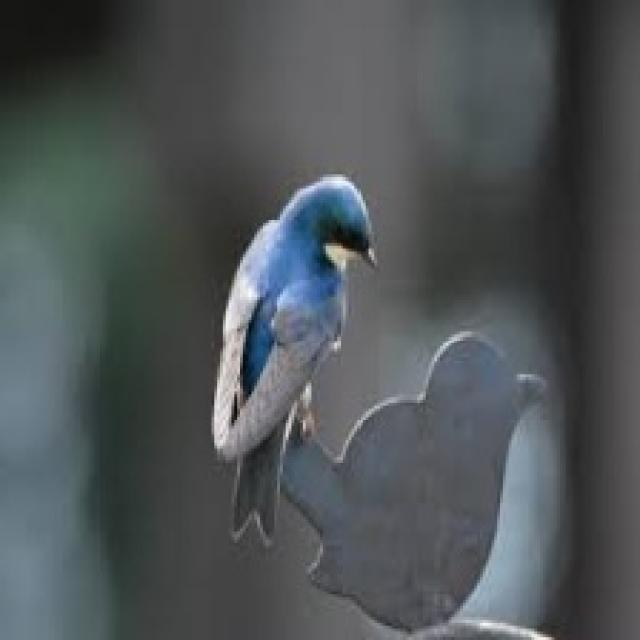animal: (161, 83, 496, 584)
